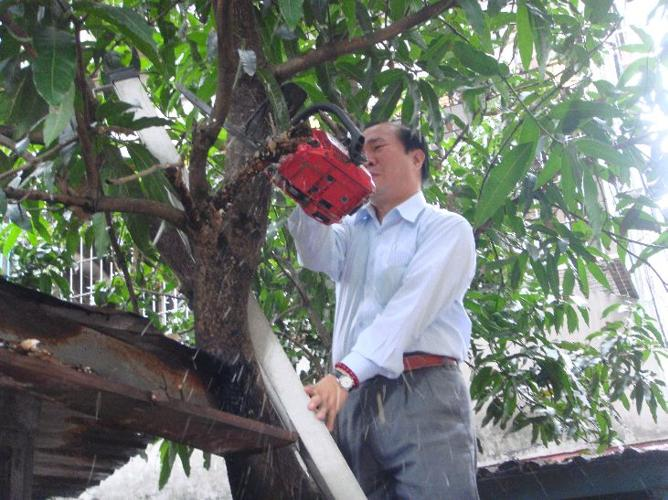person: (291, 120, 483, 500)
